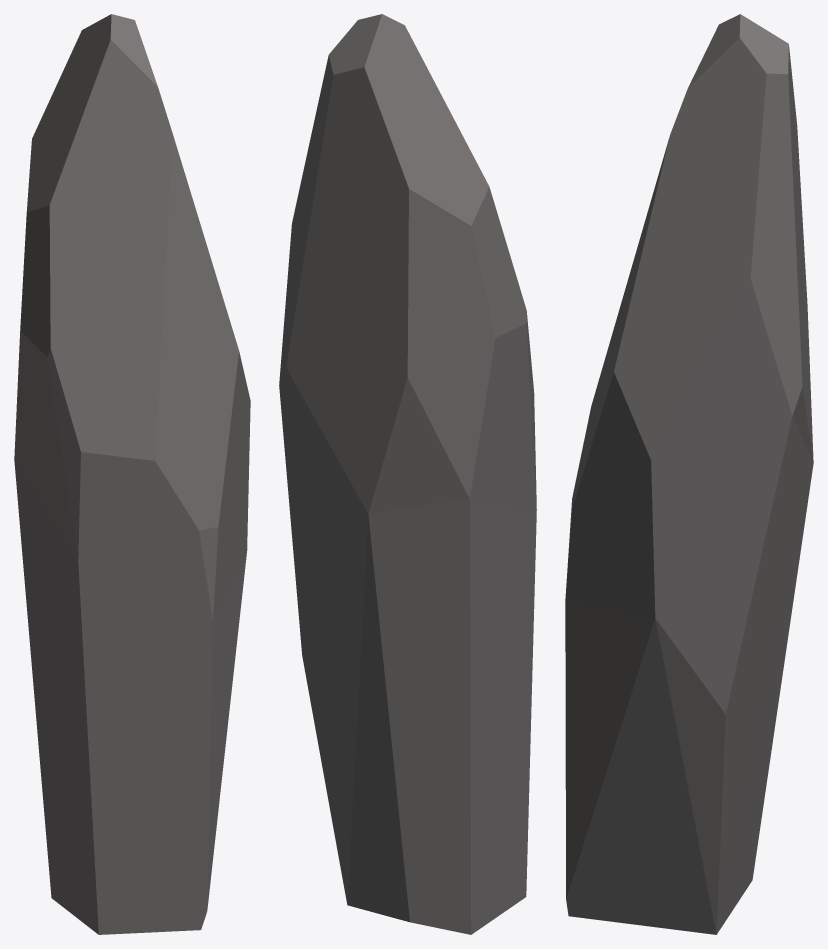
File: Rock_Sharp_m_09.fbx
3 renders of one model, left to right at view 1: azimuth 30°, elevation 25°; view 2: azimuth 150°, elevation 25°; view 3: azimuth 270°, elevation 25°, orthographic. The views are drawn at different scales.
Parts seen in each view (by area): view 1: Rock_Sharp_m_09; view 2: Rock_Sharp_m_09; view 3: Rock_Sharp_m_09.
Boxes of the visible parts, x1,y1,x2,y2 form: Rock_Sharp_m_09: (14, 14, 250, 934); Rock_Sharp_m_09: (279, 14, 536, 934); Rock_Sharp_m_09: (565, 14, 813, 934).
Size of the model in its own units: 0.3772 by 1.57 by 0.3942.
